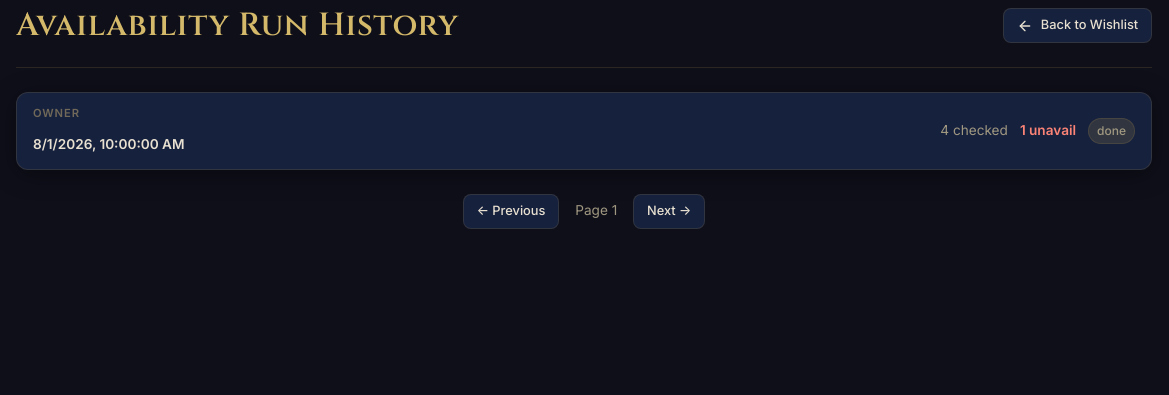
WishlistAvailabilityHistoryPage › wraps the expanded inline results table in an overflow-x-auto container (mobile overflow regression)
The width and height of the screenshot is (1169, 395).
Click the element showing "owner 8/1/2026, 10:00:00 AM 4 checked 1 unavail done" at (584, 131), box [16,92,1152,170]
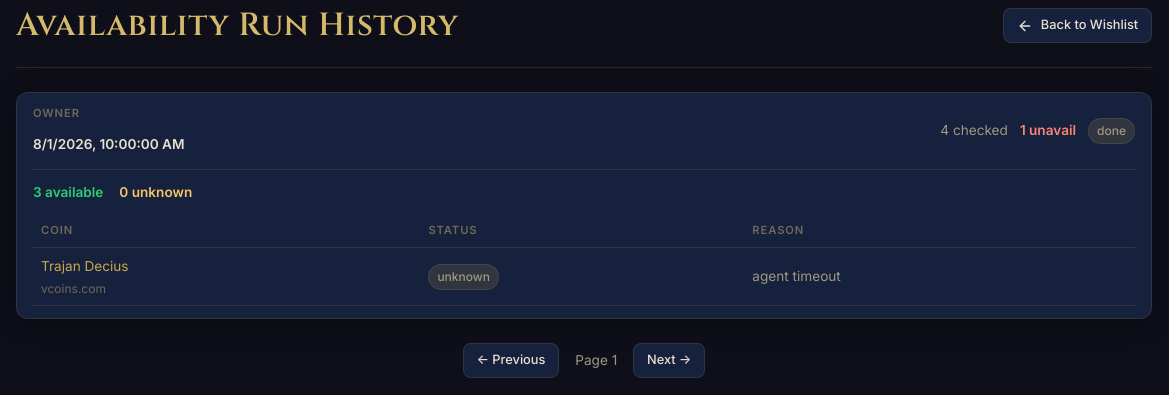
Check: the table is shown, box [33,216,1135,306]
